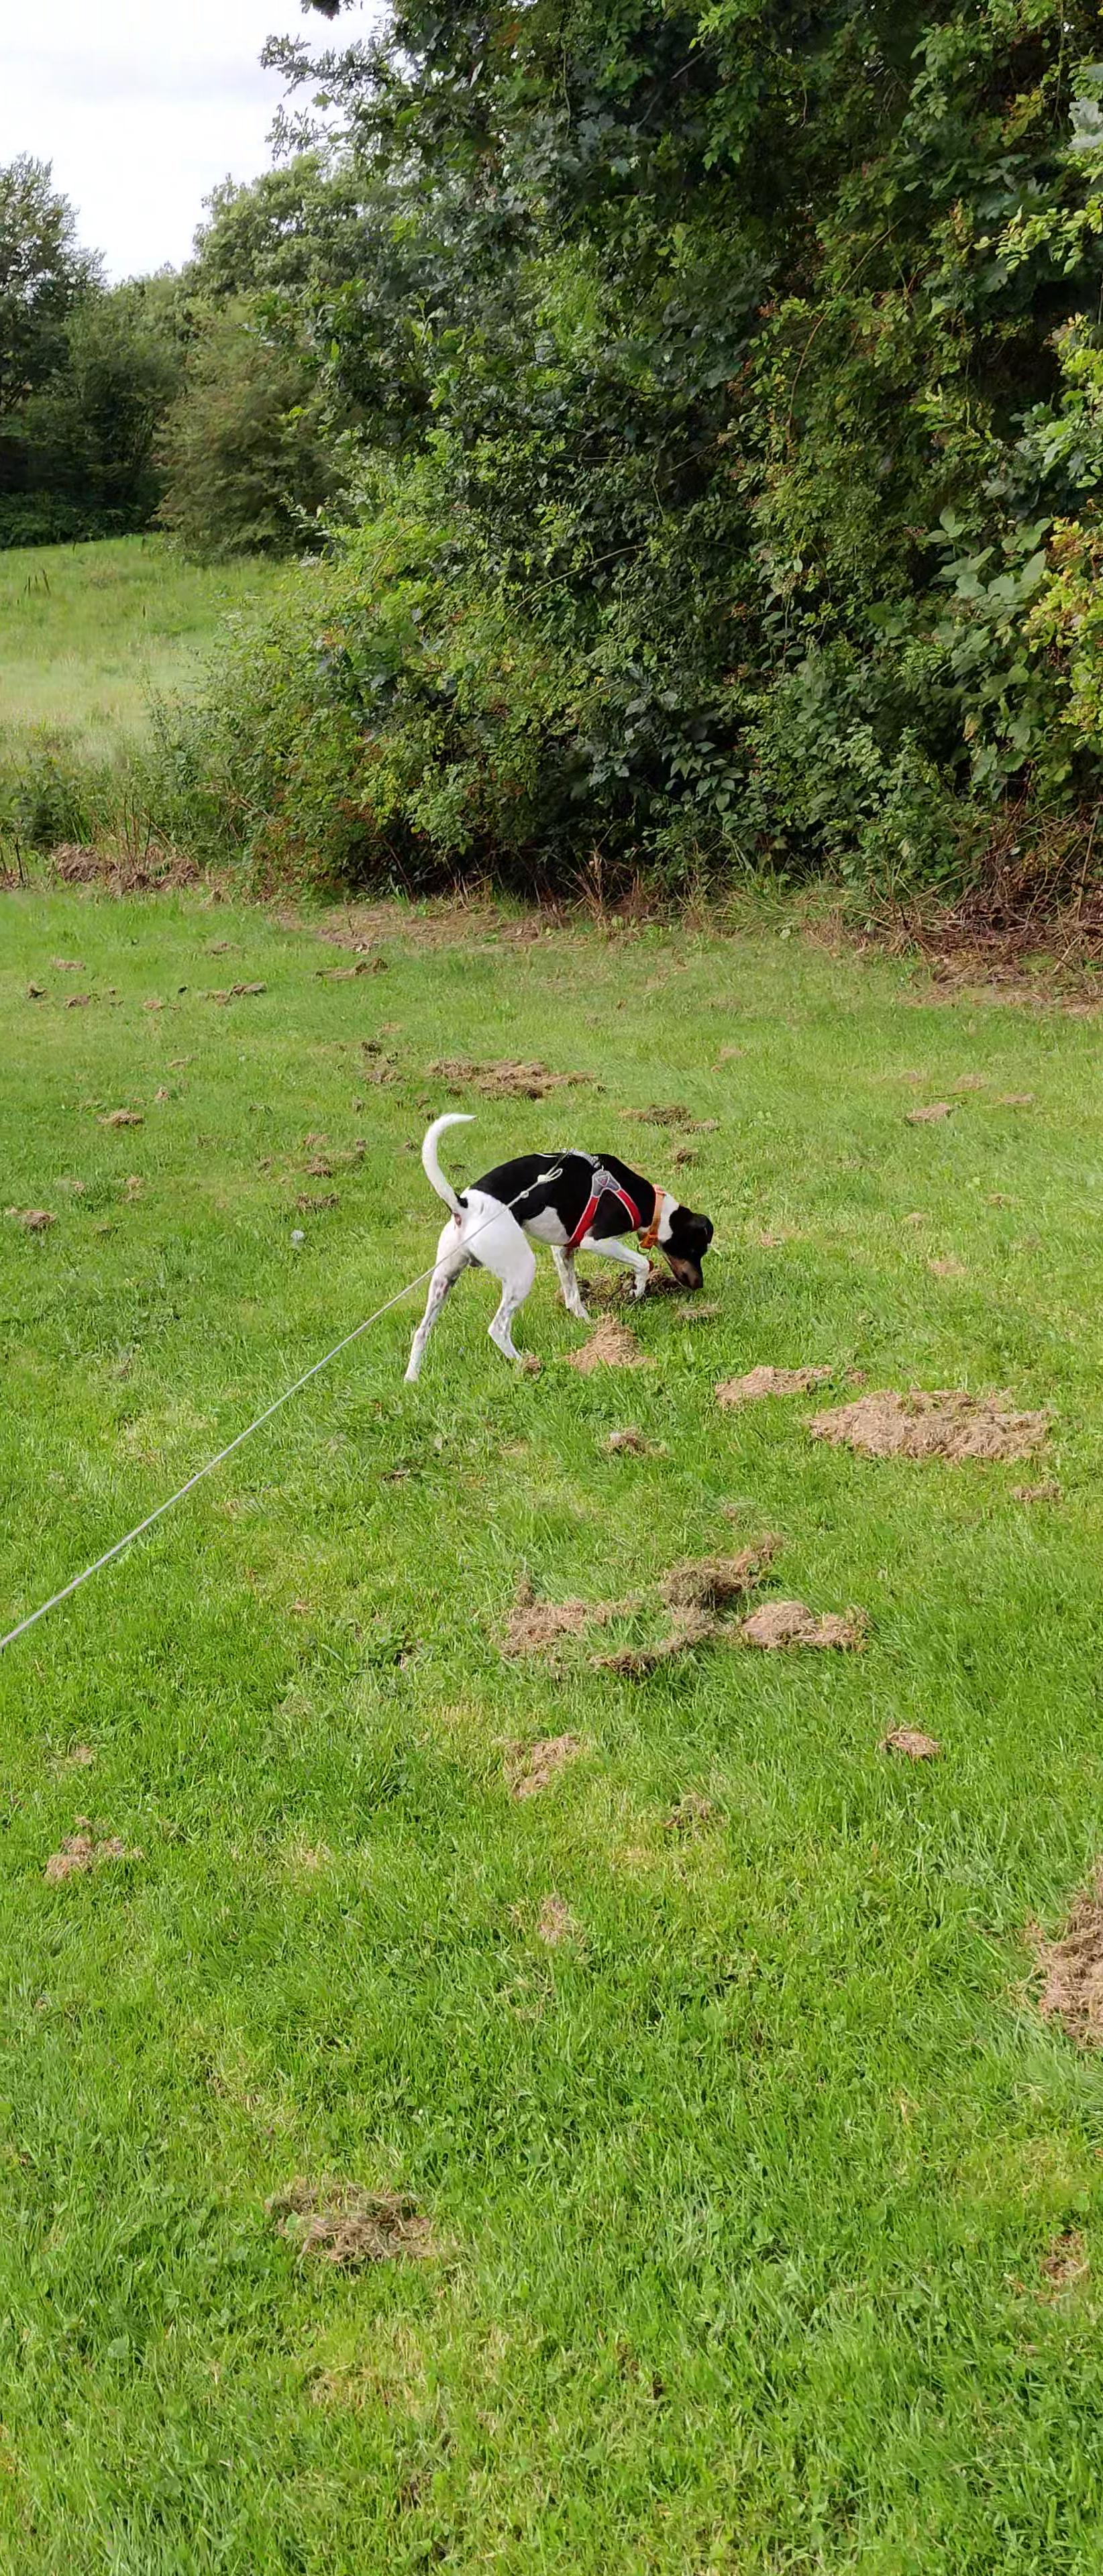Dog: (399, 1111, 720, 1388)
